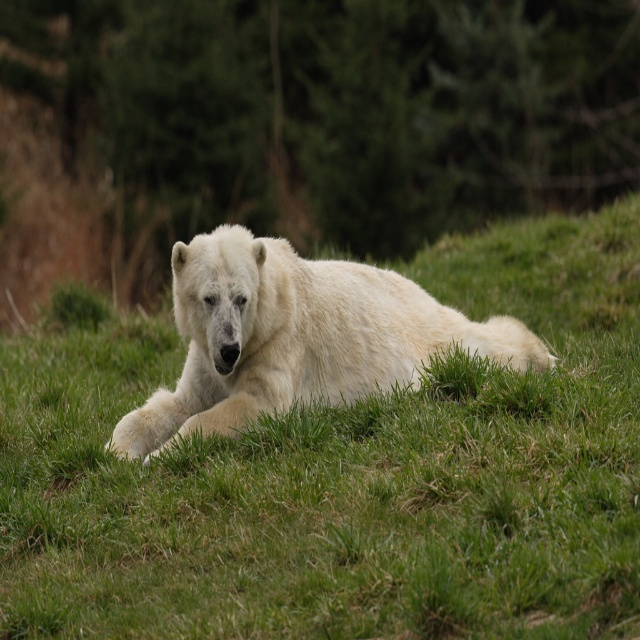Bear: (103, 221, 562, 467)
